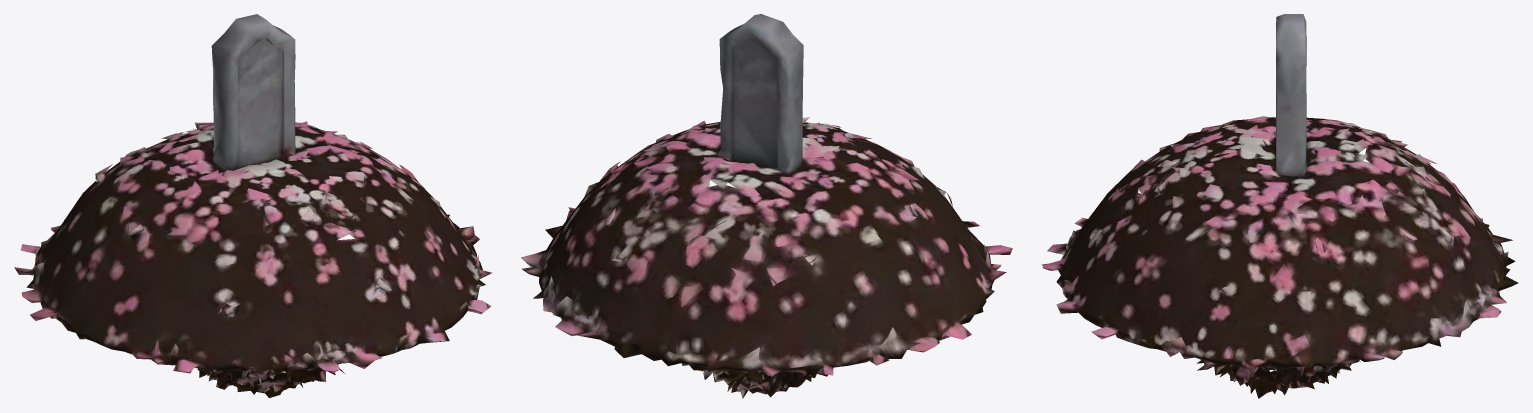
The model's file is huazhong.glb.
3 renders of one model, left to right at view 1: azimuth 30°, elevation 25°; view 2: azimuth 150°, elevation 25°; view 3: azimuth 270°, elevation 25°, orthographic. The views are drawn at different scales.
Parts seen in each view (by area): view 1: tripo_node_16e4f25a-2995-44dd-8c4a-fa64ffa33843; view 2: tripo_node_16e4f25a-2995-44dd-8c4a-fa64ffa33843; view 3: tripo_node_16e4f25a-2995-44dd-8c4a-fa64ffa33843.
Part boxes in pixels (<box>): tripo_node_16e4f25a-2995-44dd-8c4a-fa64ffa33843: <box>14,14,492,397</box>; tripo_node_16e4f25a-2995-44dd-8c4a-fa64ffa33843: <box>521,14,1012,398</box>; tripo_node_16e4f25a-2995-44dd-8c4a-fa64ffa33843: <box>1041,14,1518,398</box>.
Bounding box in the file's own units: 1.2 × 1 × 1.19.
Materials: 1 (1 with a texture image).
